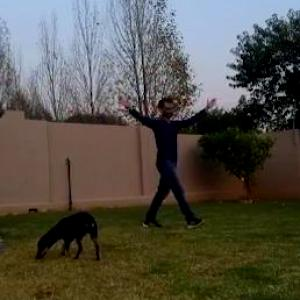takeoff: (114, 90, 238, 226)
